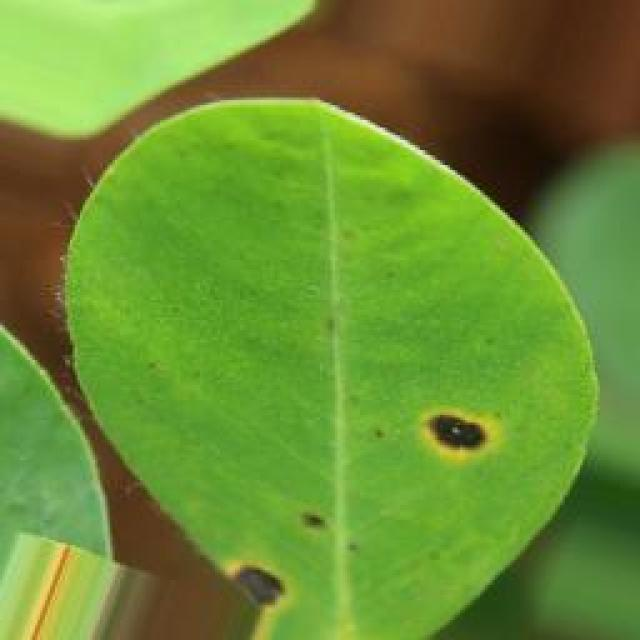Sigatoka: (388, 359, 505, 480), (182, 519, 287, 626), (275, 469, 354, 588)
